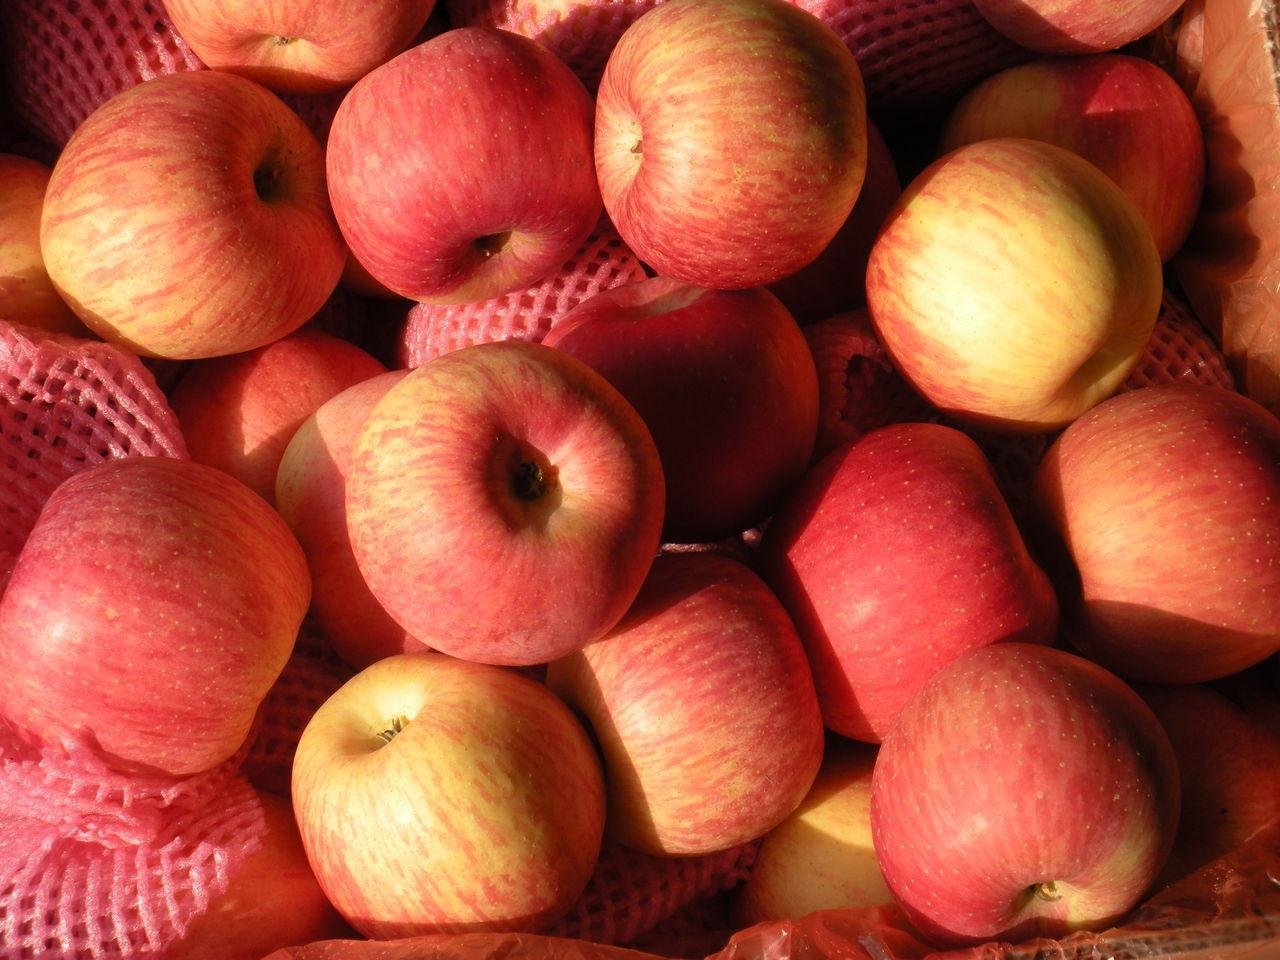apple: (342, 333, 662, 659), (1, 456, 314, 778), (29, 69, 353, 365), (761, 419, 1054, 744), (869, 638, 1182, 939), (864, 130, 1171, 425), (286, 654, 604, 937), (583, 1, 870, 296), (556, 552, 825, 859), (321, 17, 600, 312), (1029, 380, 1279, 686), (546, 274, 822, 545), (918, 48, 1200, 284)
